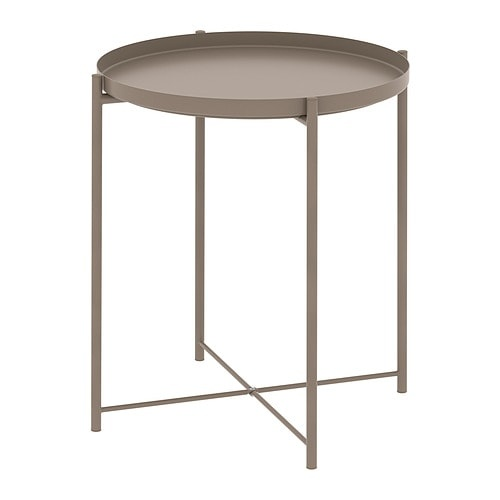obstacle: (91, 31, 408, 468)
